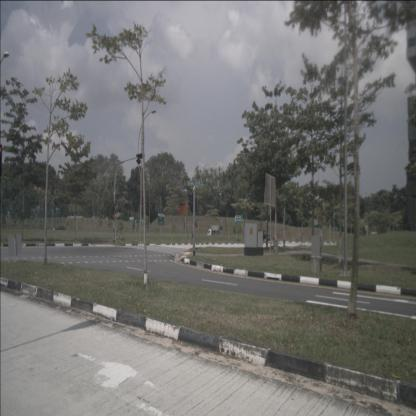human-pedestrian-adult: (115, 230, 119, 240), (119, 231, 123, 240)
vehicle-car: (259, 230, 271, 242), (53, 226, 65, 233)
vehicle-truck: (207, 225, 222, 239)
